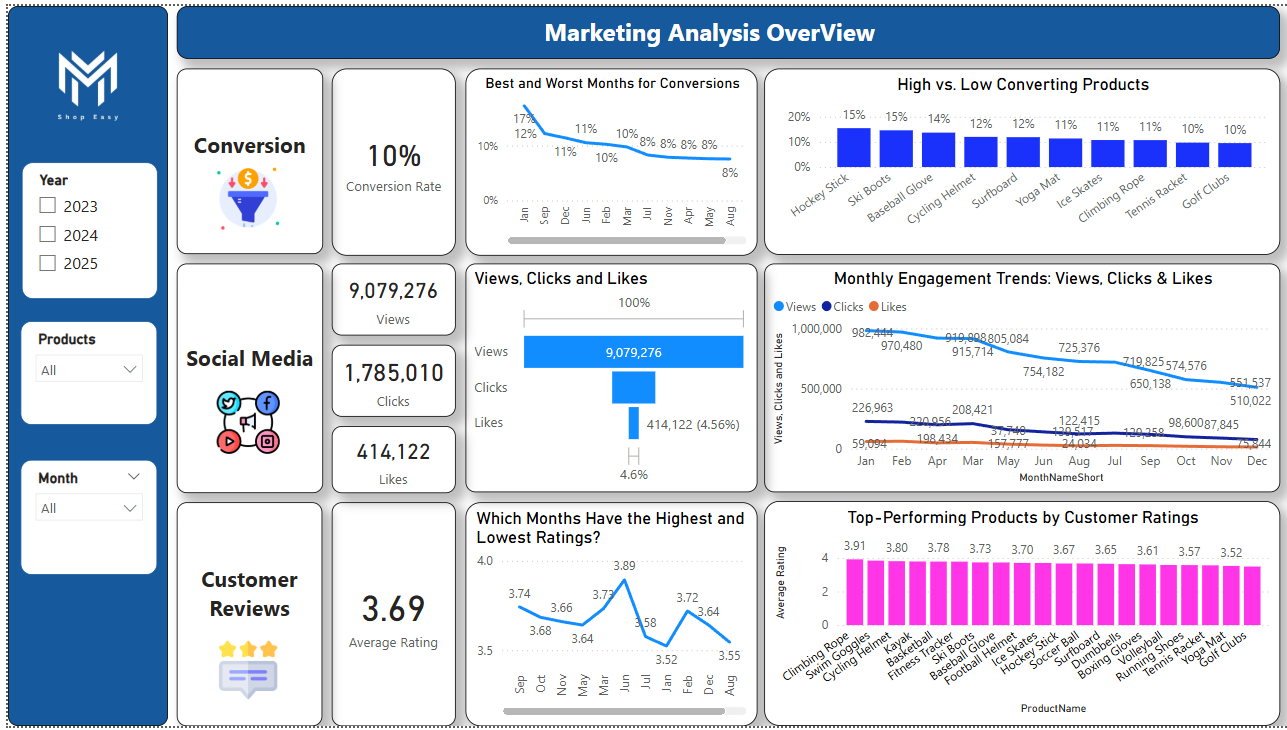

Layout of this report page (visuals, bound fields, positions):
{"tool":"powerbi","page":{"name":"OverView","canvas":[1280,720],"ordinal":0},"visuals":[{"type":"textbox","box":[168.8,0,1103,52.6],"z":0},{"type":"card","fields":{"Values":["Calculations.Conversion Rate"]},"box":[324.1,61.9,123.9,186.8],"z":1000},{"type":"card","fields":{"Values":["Calculations.Average Rating"]},"box":[324.1,496,123.9,224],"z":2000},{"type":"lineChart","title":"Best and Worst Months for Conversions","fields":{"Y":["Calculations.Conversion Rate"],"Category":["Calendar.MonthNameShort"]},"box":[457.3,62.4,292.3,187.1],"z":3000},{"type":"columnChart","title":"High vs. Low Converting Products","fields":{"Y":["Calculations.Conversion Rate"],"Category":["dim_products.ProductName"]},"box":[756.7,61.9,516.3,186.7],"z":4000},{"type":"lineChart","title":"Monthly Engagement Trends: Views, Clicks & Likes","fields":{"Category":["Calendar.MonthNameShort"],"Y":["Calculations.Views","Calculations.Clicks","Calculations.Likes"]},"box":[756.6,258.1,516.1,229.2],"z":5000},{"type":"lineChart","title":"Which Months Have the Highest and Lowest Ratings?","fields":{"Category":["Calendar.MonthNameShort"],"Y":["Calculations.Average Rating"]},"box":[457.1,496,292.3,224],"z":6000},{"type":"columnChart","title":"Top-Performing Products by Customer Ratings","fields":{"Category":["dim_products.ProductName"],"Y":["Calculations.Average Rating"]},"box":[756.1,495.4,516,225],"z":7000},{"type":"funnel","fields":{"Y":["Calculations.Views","Calculations.Clicks","Calculations.Likes"]},"box":[457.3,258.1,292.1,229.2],"z":8000},{"type":"card","fields":{"Values":["Calculations.Views"]},"box":[324.2,257.7,123.8,71.9],"z":9000},{"type":"textbox","box":[168.8,62.4,146.7,185.9],"z":10000},{"type":"textbox","box":[168.5,257.7,146.6,229.5],"z":11000},{"type":"textbox","box":[168.5,496,145.7,224],"z":12000},{"type":"card","fields":{"Values":["Calculations.Clicks"]},"box":[324.2,338.8,123.8,71.9],"z":13000},{"type":"card","fields":{"Values":["Calculations.Likes"]},"box":[324.2,419.8,123.8,67.4],"z":14000},{"type":"textbox","box":[0,0,160.2,720.2],"z":15000},{"type":"slicer","fields":{"Values":["Calendar.Year"]},"box":[13.5,156.5,136,137],"z":16000},{"type":"image","box":[0,0,160.2,155.3],"z":17000},{"type":"slicer","fields":{"Values":["dim_products.ProductName"]},"box":[12.2,315.5,137,103.9],"z":18000},{"type":"slicer","fields":{"Values":["Calendar.MonthNameShort"]},"box":[12.2,453.7,137,114.9],"z":19000},{"type":"image","box":[204.2,156.5,73.4,73.4],"z":20000},{"type":"image","box":[204.2,380.3,73.4,73.4],"z":21000},{"type":"image","box":[204.2,629.8,73.4,68.5],"z":22000}]}

Visuals, with their boxes in screenshot pixels (x1, y1, x2, y2), scaled from the page's 1280x720 canvas onto the 1287x730 screenshot:
textbox: select_region(170, 0, 1279, 53)
card - Calculations.Conversion Rate: select_region(326, 63, 450, 252)
card - Calculations.Average Rating: select_region(326, 503, 450, 729)
"Best and Worst Months for Conversions" lineChart: select_region(460, 63, 754, 253)
"High vs. Low Converting Products" columnChart: select_region(761, 63, 1280, 252)
"Monthly Engagement Trends: Views, Clicks & Likes" lineChart: select_region(761, 262, 1280, 494)
"Which Months Have the Highest and Lowest Ratings?" lineChart: select_region(460, 503, 753, 729)
"Top-Performing Products by Customer Ratings" columnChart: select_region(760, 502, 1279, 729)
funnel - Calculations.Views x Calculations.Clicks: select_region(460, 262, 753, 494)
card - Calculations.Views: select_region(326, 261, 450, 334)
textbox: select_region(170, 63, 317, 252)
textbox: select_region(169, 261, 317, 494)
textbox: select_region(169, 503, 316, 729)
card - Calculations.Clicks: select_region(326, 344, 450, 416)
card - Calculations.Likes: select_region(326, 426, 450, 494)
textbox: select_region(0, 0, 161, 729)
slicer - Calendar.Year: select_region(14, 159, 150, 298)
image: select_region(0, 0, 161, 157)
slicer - dim_products.ProductName: select_region(12, 320, 150, 425)
slicer - Calendar.MonthNameShort: select_region(12, 460, 150, 576)
image: select_region(205, 159, 279, 233)
image: select_region(205, 386, 279, 460)
image: select_region(205, 639, 279, 708)
